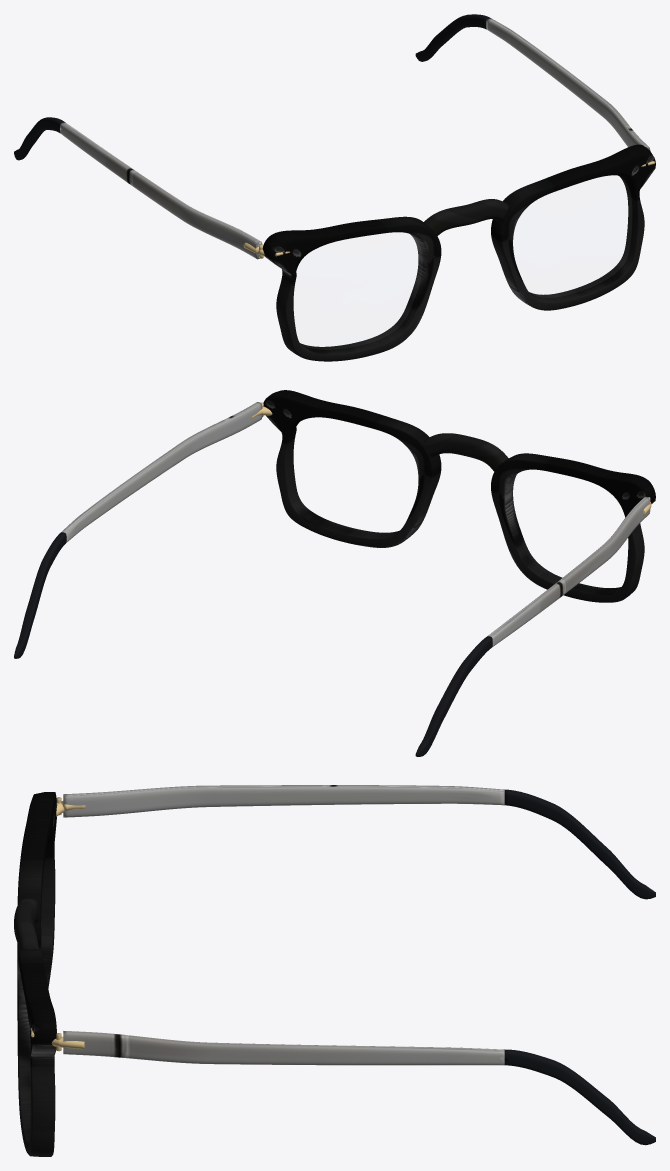
The model's file is prod-r10.glb.
3 views of the same model, one above another, from view 1: azimuth 30°, elevation 25°; view 2: azimuth 150°, elevation 25°; view 3: azimuth 270°, elevation 25° (orthographic). The views are drawn at different scales.
Visible parts, largest first — view 1: Traced bevelled frame -1, Traced bevelled frame 1, Fitted temple exterior -1, Fitted temple exterior 1, Saddle nose bridge, Fitted temple ear hook 1, Fitted temple ear hook -1; view 2: Traced bevelled frame 1, Traced bevelled frame -1, Fitted temple exterior 1, Fitted temple exterior -1, Saddle nose bridge, Fitted temple ear hook -1, Fitted temple ear hook 1; view 3: Fitted temple exterior 1, Fitted temple exterior -1, Traced bevelled frame 1, Traced bevelled frame -1, Fitted temple ear hook 1, Fitted temple ear hook -1, Saddle nose bridge.
Boxes of the visible parts, box(x1,y1,x2,y2) form: Traced bevelled frame -1: box(262, 216, 441, 361); Traced bevelled frame 1: box(491, 144, 655, 310); Fitted temple exterior -1: box(60, 122, 262, 259); Fitted temple exterior 1: box(486, 18, 650, 150); Saddle nose bridge: box(424, 199, 508, 235); Fitted temple ear hook 1: box(415, 14, 490, 61); Fitted temple ear hook -1: box(14, 117, 64, 160); Traced bevelled frame 1: box(263, 390, 441, 547); Traced bevelled frame -1: box(491, 453, 655, 602); Fitted temple exterior 1: box(62, 402, 262, 542); Fitted temple exterior -1: box(487, 496, 650, 646); Saddle nose bridge: box(423, 433, 508, 471); Fitted temple ear hook -1: box(415, 636, 492, 756); Fitted temple ear hook 1: box(14, 532, 66, 658); Fitted temple exterior 1: box(63, 1031, 504, 1065); Fitted temple exterior -1: box(63, 785, 504, 817); Traced bevelled frame 1: box(17, 949, 56, 1156); Traced bevelled frame -1: box(17, 792, 57, 987); Fitted temple ear hook 1: box(504, 1049, 655, 1145); Fitted temple ear hook -1: box(504, 789, 655, 899); Saddle nose bridge: box(14, 898, 39, 949).
Size of the model in its own units: 0.1451 by 0.043 by 0.1484.
7 materials, 3 textured.
